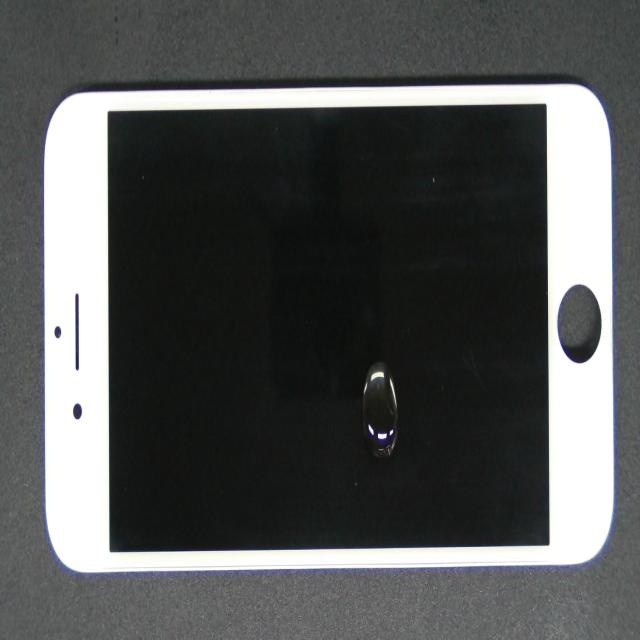oil: (178, 195, 534, 592)
